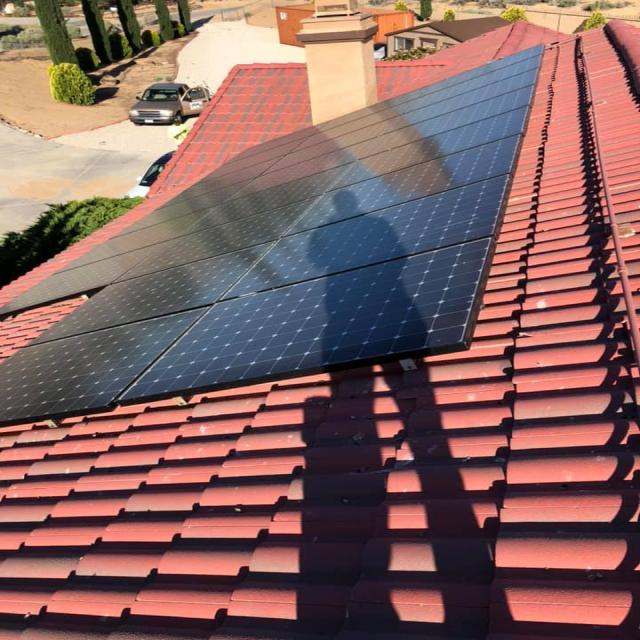clean-solar-panel: (2, 48, 542, 422)
